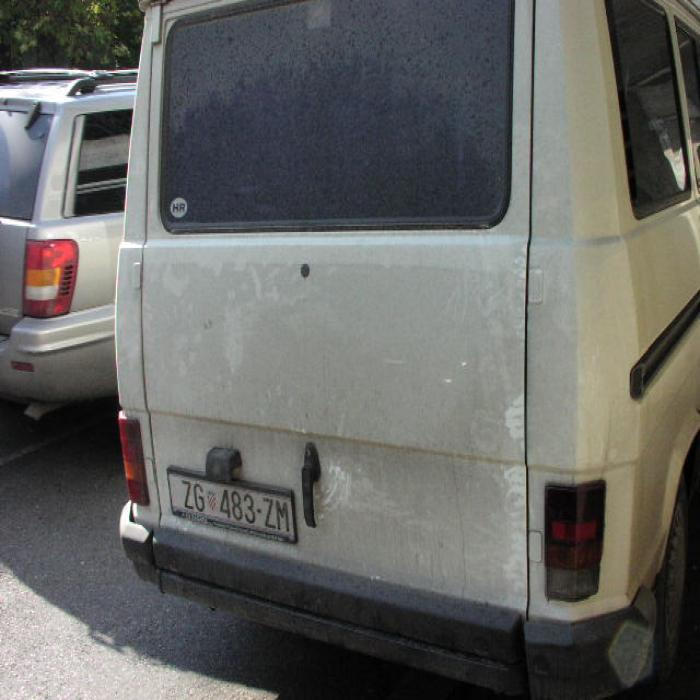number_plate: (165, 474, 293, 538)
